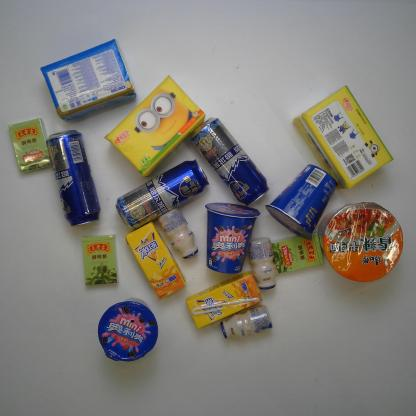Alcohol: (188, 116, 269, 206), (115, 159, 210, 232), (45, 127, 102, 227)
Candy: (8, 118, 53, 171), (270, 234, 323, 276), (84, 234, 119, 286)
Dessert: (266, 164, 336, 239), (201, 202, 262, 274), (98, 299, 160, 363)
Drink: (124, 222, 186, 299), (187, 270, 261, 330)
Instant Noodles: (319, 202, 404, 281)
Milk: (157, 208, 198, 260), (218, 304, 274, 338), (248, 235, 275, 292)
Tissue: (293, 84, 393, 192), (104, 73, 207, 176), (36, 37, 138, 121)
